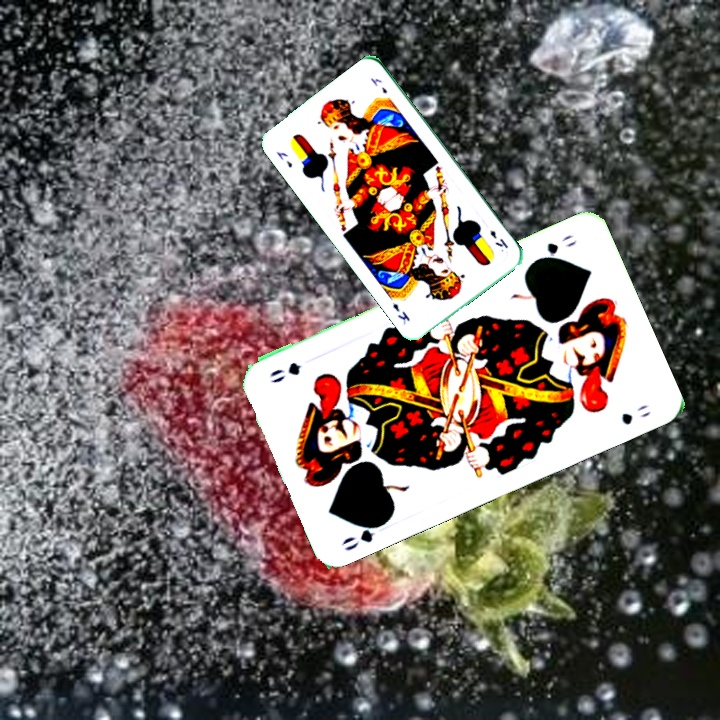EK: (486, 226, 510, 251), (272, 147, 295, 170)
GO: (337, 516, 391, 554), (530, 230, 579, 265)
